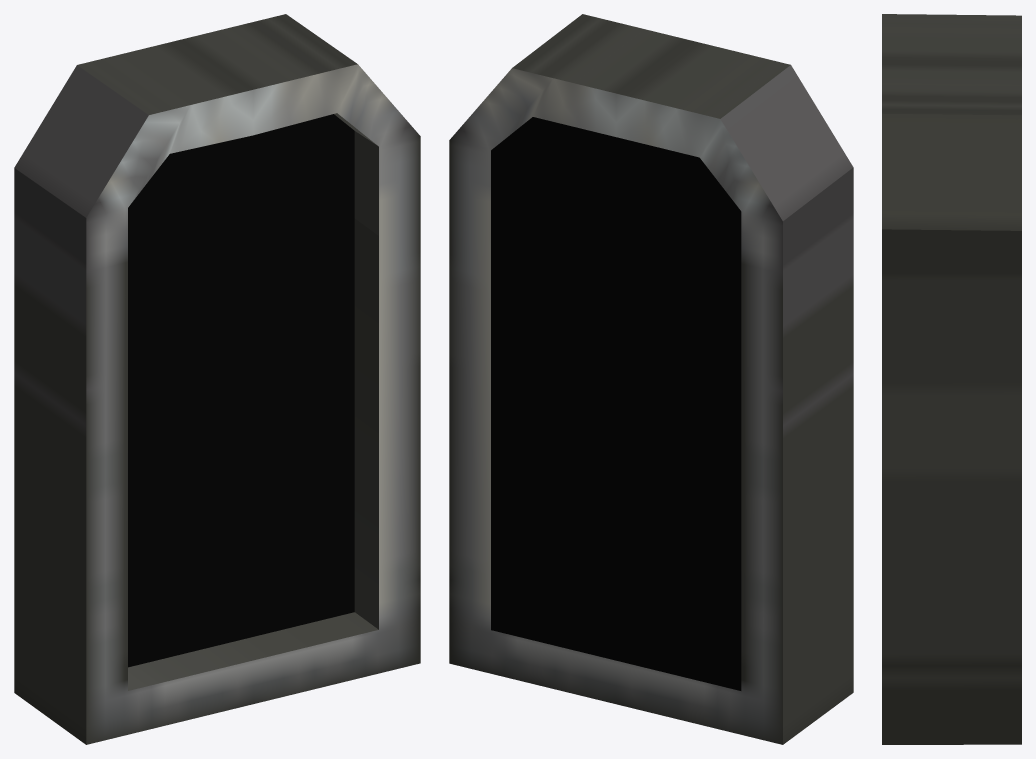
Rendered from Poly_Small_Window_03.obj.
3 renders of one model, left to right at view 1: azimuth 30°, elevation 25°; view 2: azimuth 150°, elevation 25°; view 3: azimuth 270°, elevation 25°, orthographic. The views are drawn at different scales.
Parts seen in each view (by area): view 1: Cube_Cube.001; view 2: Cube_Cube.001; view 3: Cube_Cube.001.
Part boxes in pixels (x1,y1,x2,y2): Cube_Cube.001: (14,14,420,744); Cube_Cube.001: (449,14,853,744); Cube_Cube.001: (882,14,1021,744).
Size of the model in its own units: 0.6011 by 1.05 by 0.2218.
1 material, 1 textured.
